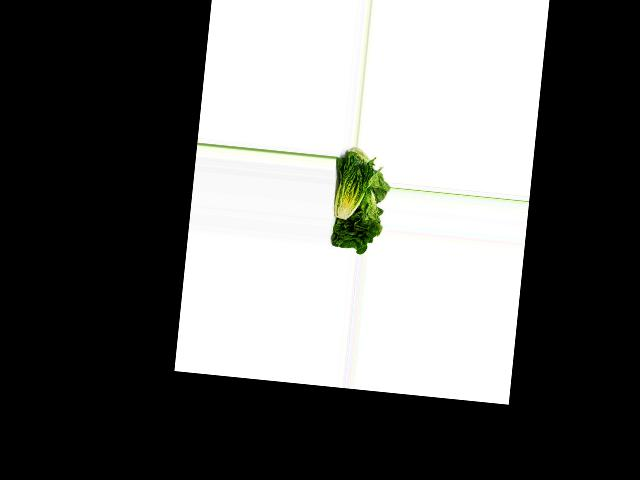lettuce: (326, 187, 385, 254)
